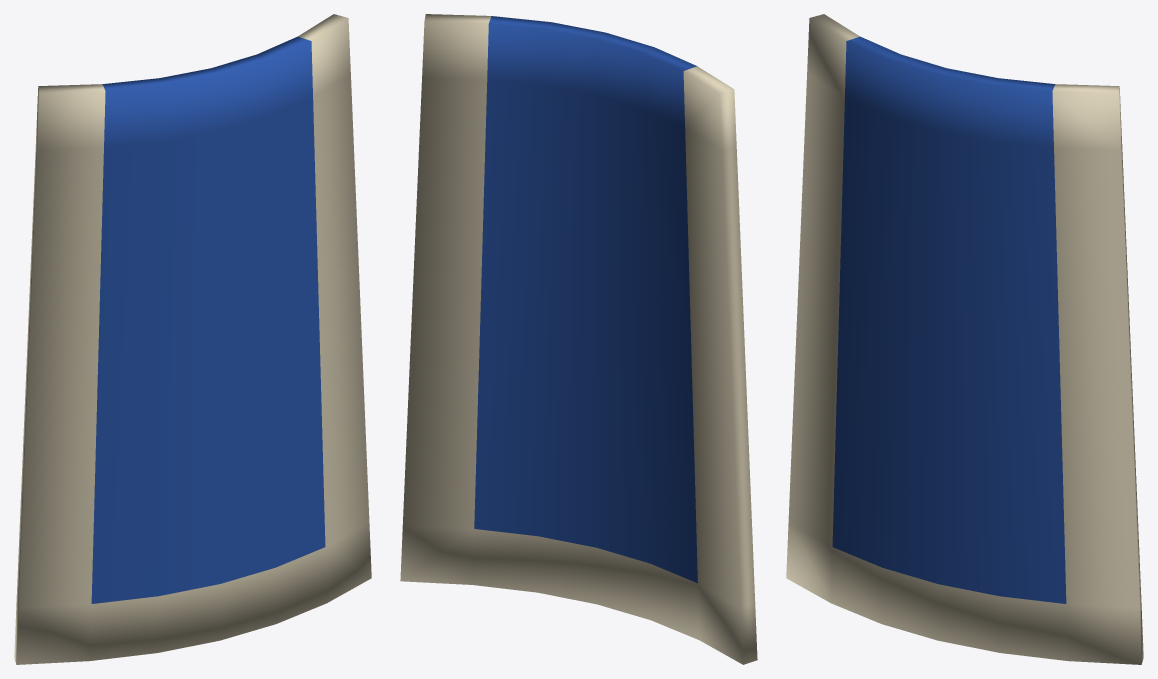
Rendered from waffenrock.glb.
The picture shows the model from 3 angles, left to right: view 1: azimuth 30°, elevation 25°; view 2: azimuth 150°, elevation 25°; view 3: azimuth 330°, elevation 25°; orthographic projection.
Parts seen in each view (by area): view 1: waffenrock; view 2: waffenrock; view 3: waffenrock.
Part boxes in pixels (x1,y1,x2,y2): waffenrock: [14, 14, 371, 664]; waffenrock: [400, 14, 757, 664]; waffenrock: [786, 14, 1143, 664].
Size of the model in its own units: 0.276 by 0.4202 by 0.046.
